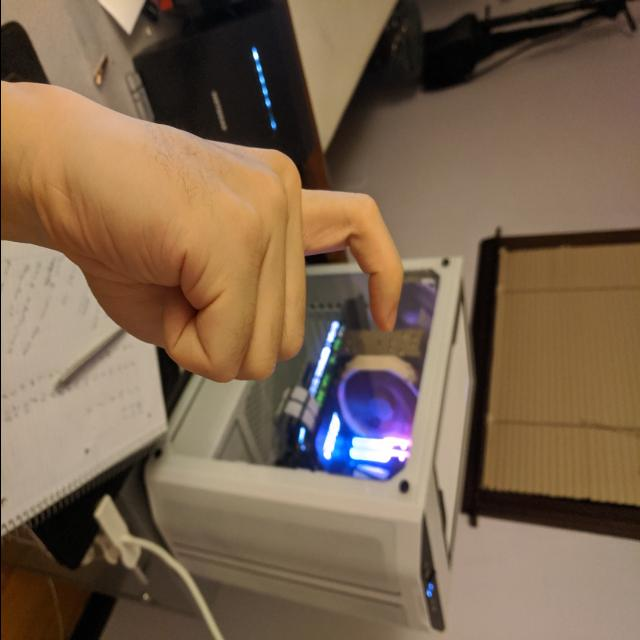X: (45, 77, 407, 390)
